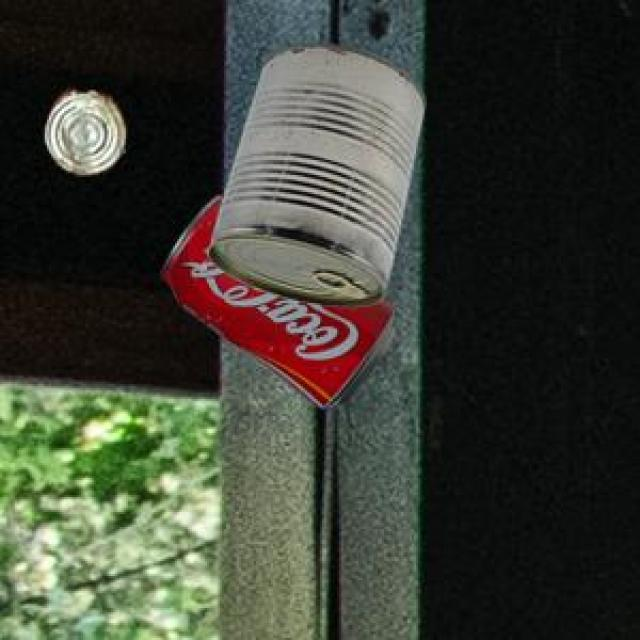logam: (206, 39, 421, 304), (157, 193, 391, 404), (44, 89, 121, 172)
